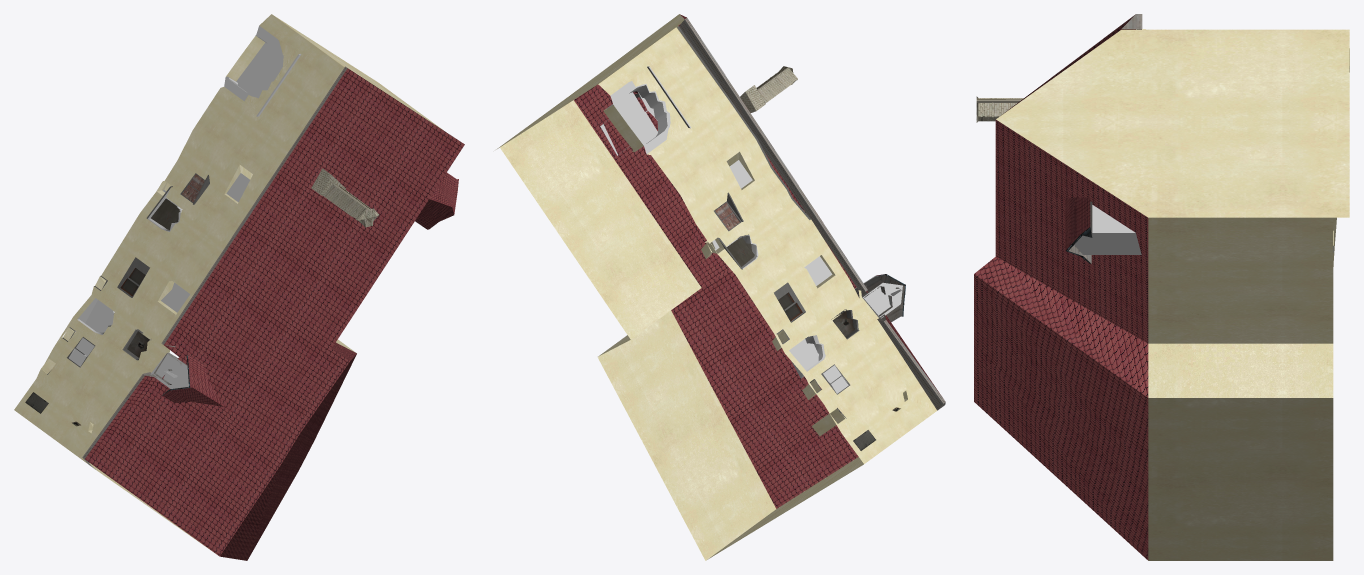
Rendered from Sauna10-origo.obj.
3 renders of one model, left to right at view 1: azimuth 30°, elevation 25°; view 2: azimuth 150°, elevation 25°; view 3: azimuth 270°, elevation 25°, orthographic. The views are drawn at different scales.
Parts seen in each view (by area): view 1: HOUSE_2011_01_04___002; view 2: HOUSE_2011_01_04___002; view 3: HOUSE_2011_01_04___002.
Boxes of the visible parts, <box> form: HOUSE_2011_01_04___002: <box>14,14,464,560</box>; HOUSE_2011_01_04___002: <box>496,14,945,560</box>; HOUSE_2011_01_04___002: <box>974,14,1349,560</box>.
Bounding box in the file's own units: 22.94 × 27.5 × 15.44.
